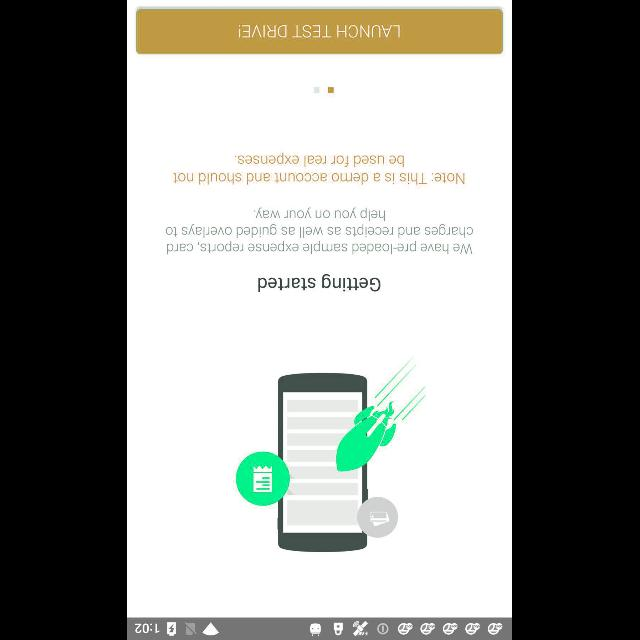image: (236, 356, 427, 552)
pageindicator: (314, 86, 334, 94)
text: (166, 207, 474, 255), (174, 152, 466, 184), (258, 274, 382, 292)
textbutton: (136, 10, 504, 54)
uppertaskbar: (128, 617, 512, 639)
